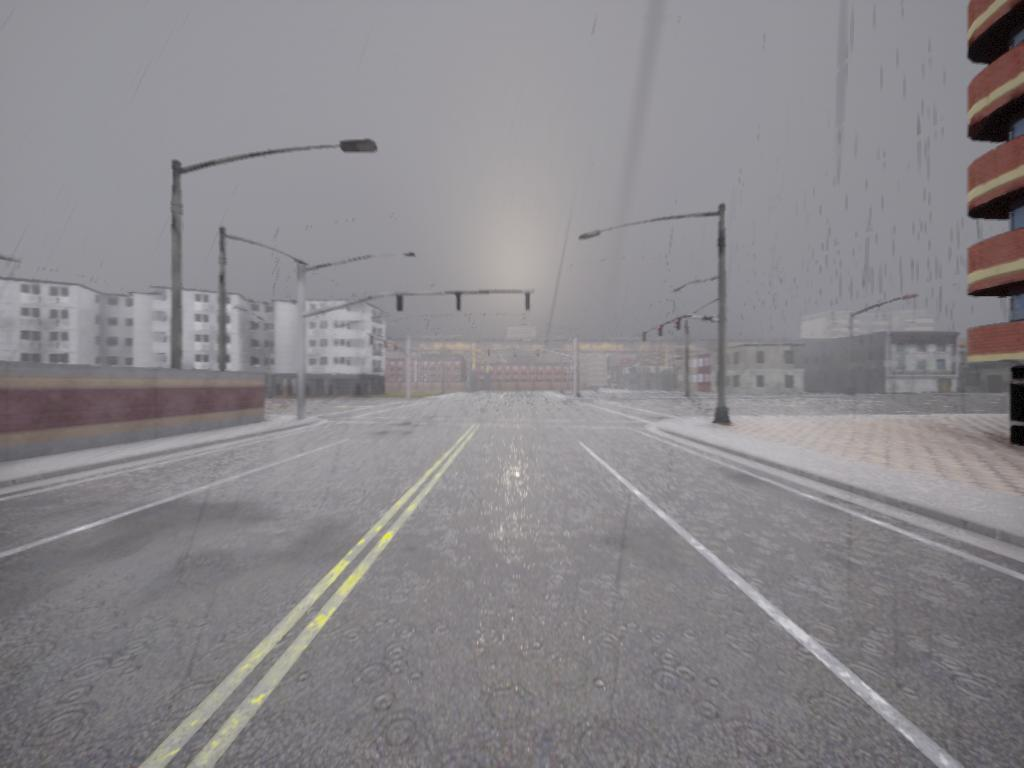traffic_light: (396, 294, 404, 314), (455, 293, 462, 313), (525, 293, 532, 312), (675, 319, 682, 333), (658, 326, 664, 341), (642, 332, 647, 344), (537, 348, 541, 360), (514, 350, 518, 360), (488, 349, 491, 358)
